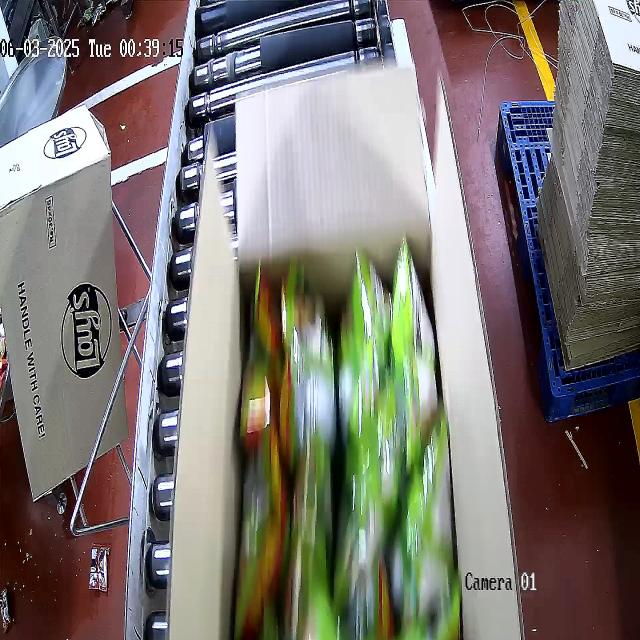YOGURT_HERB: (234, 265, 456, 640)
